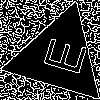E: (34, 31, 88, 78)
